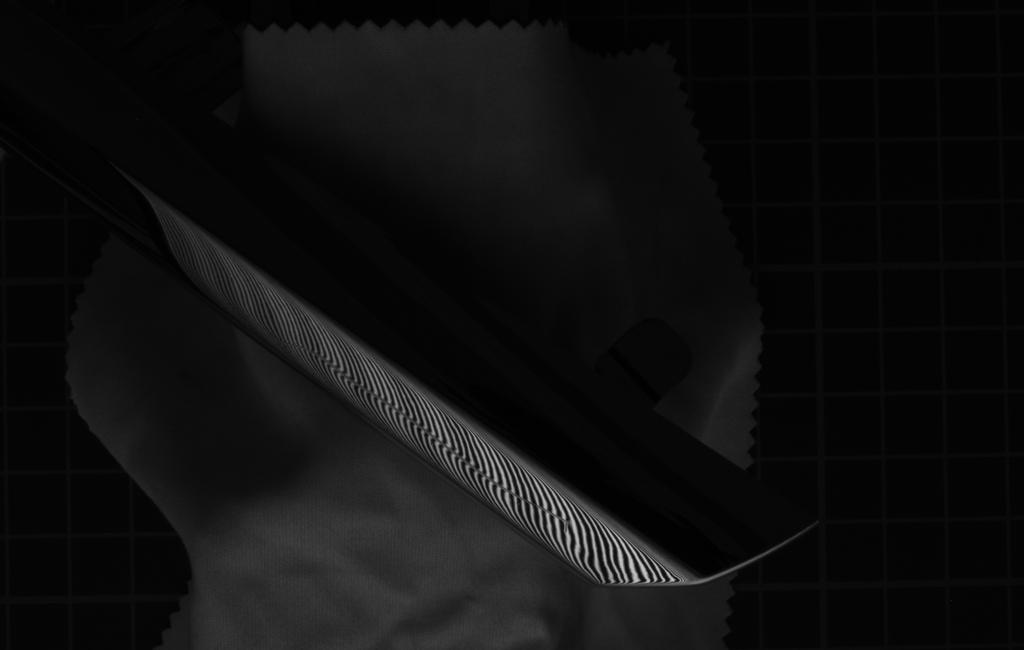Scratch: (265, 326, 588, 540)
